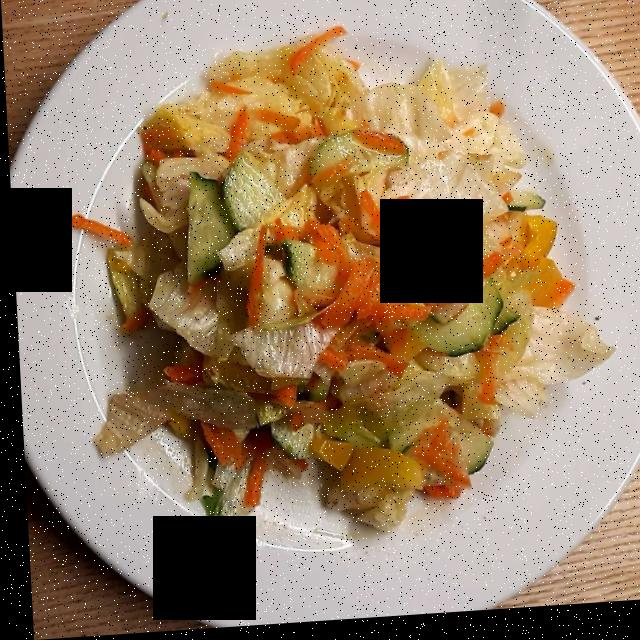carrot-raw: (280, 202, 528, 390)
cucumber: (161, 151, 513, 364)
salad-leaf-salad-green: (95, 47, 587, 561)
